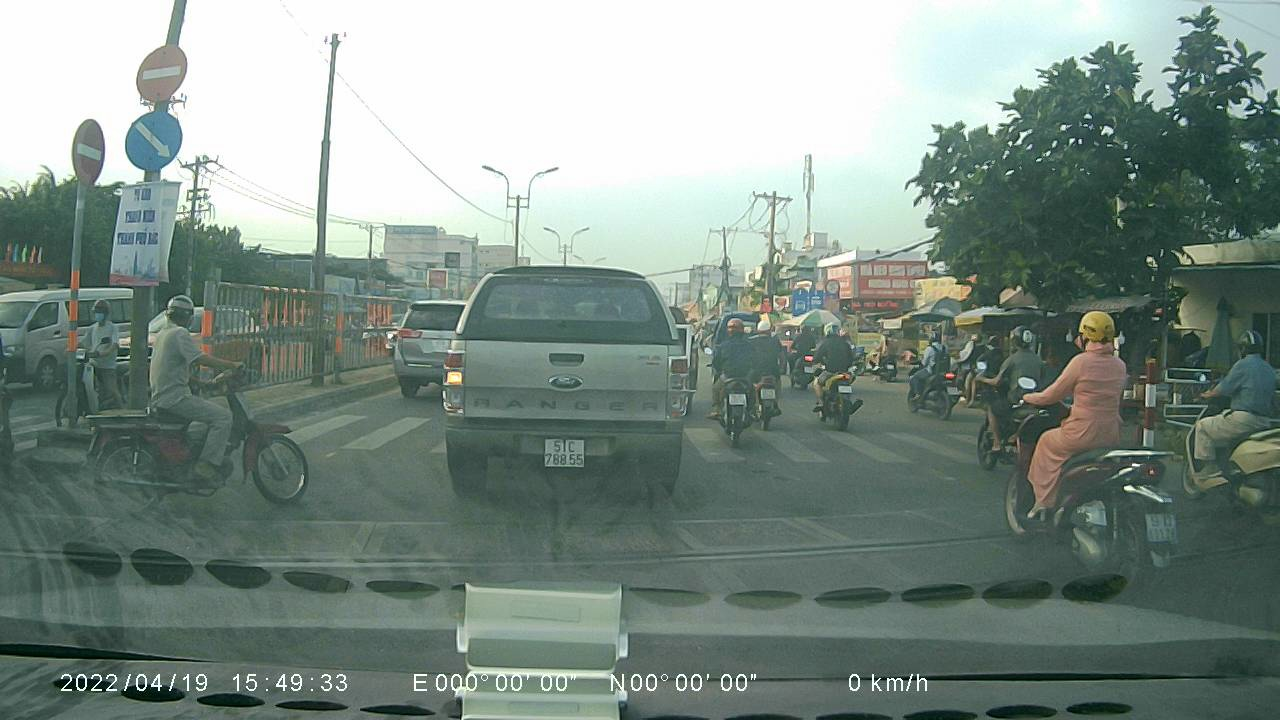Cam di nguoc chieu: (133, 41, 188, 107), (69, 118, 109, 185)
Huong di phai re phai: (123, 110, 186, 168)
